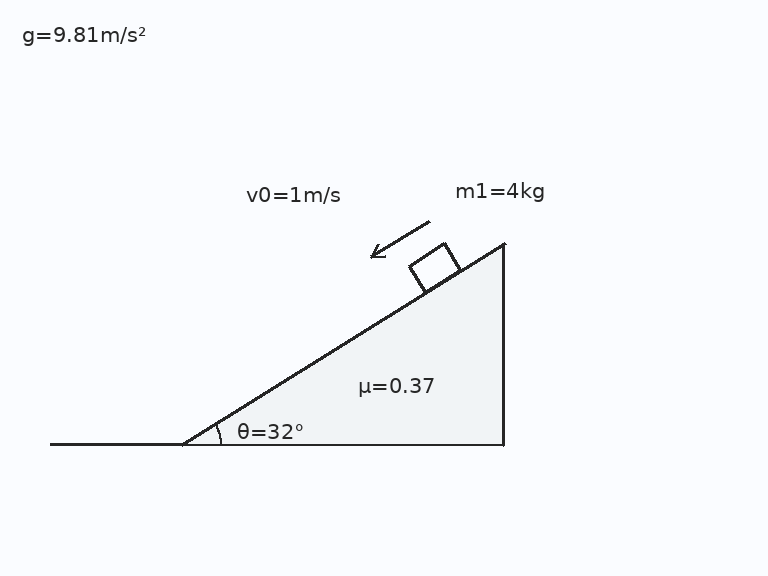block: (407, 241, 462, 294)
ramp: (179, 241, 505, 446)
